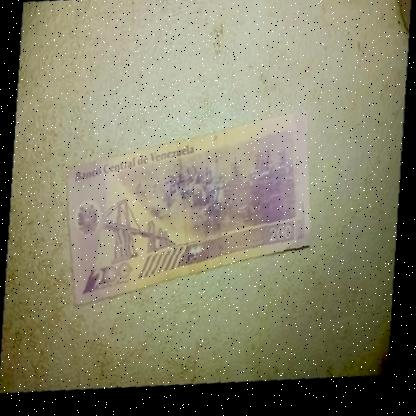two_hundred-back-vef: (63, 112, 314, 308)
